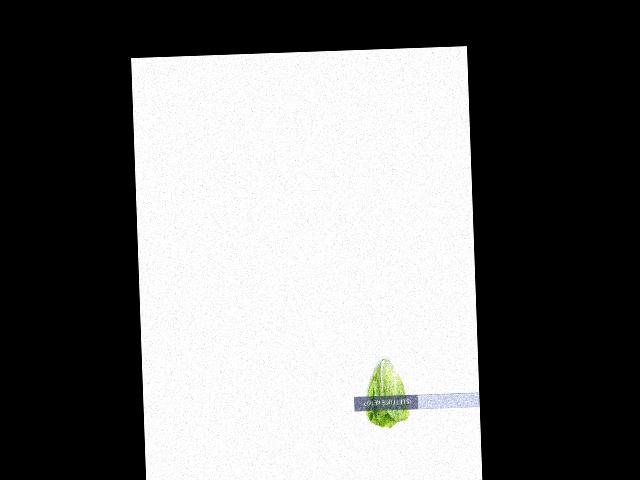lettuce: (360, 351, 411, 428)
